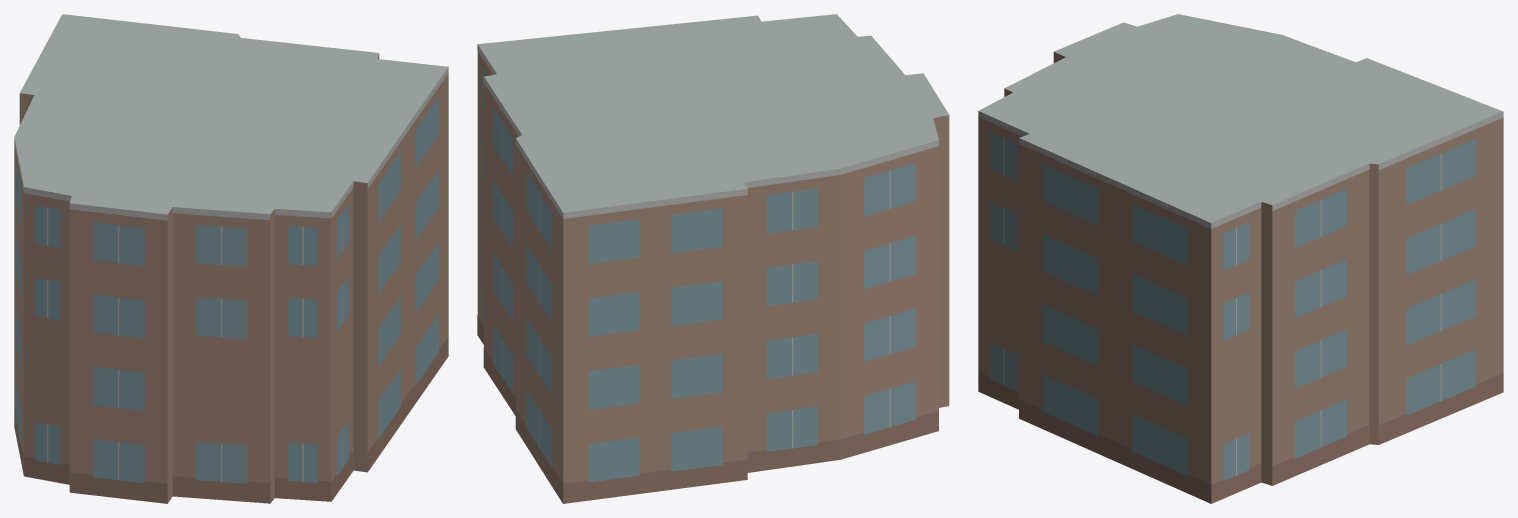
Rendered from survey-upis-32695656.glb.
3 renders of one model, left to right at view 1: azimuth 30°, elevation 25°; view 2: azimuth 150°, elevation 25°; view 3: azimuth 270°, elevation 25°, orthographic. The views are drawn at different scales.
Visible parts, largest first — view 1: survey-upis-32695656.tmp; view 2: survey-upis-32695656.tmp; view 3: survey-upis-32695656.tmp.
Boxes of the visible parts, bbox=[...] form: survey-upis-32695656.tmp: bbox=[14, 14, 448, 503]; survey-upis-32695656.tmp: bbox=[477, 14, 949, 503]; survey-upis-32695656.tmp: bbox=[978, 14, 1503, 503].
Bounding box in the file's own units: 18.55 × 11.6 × 19.68.
